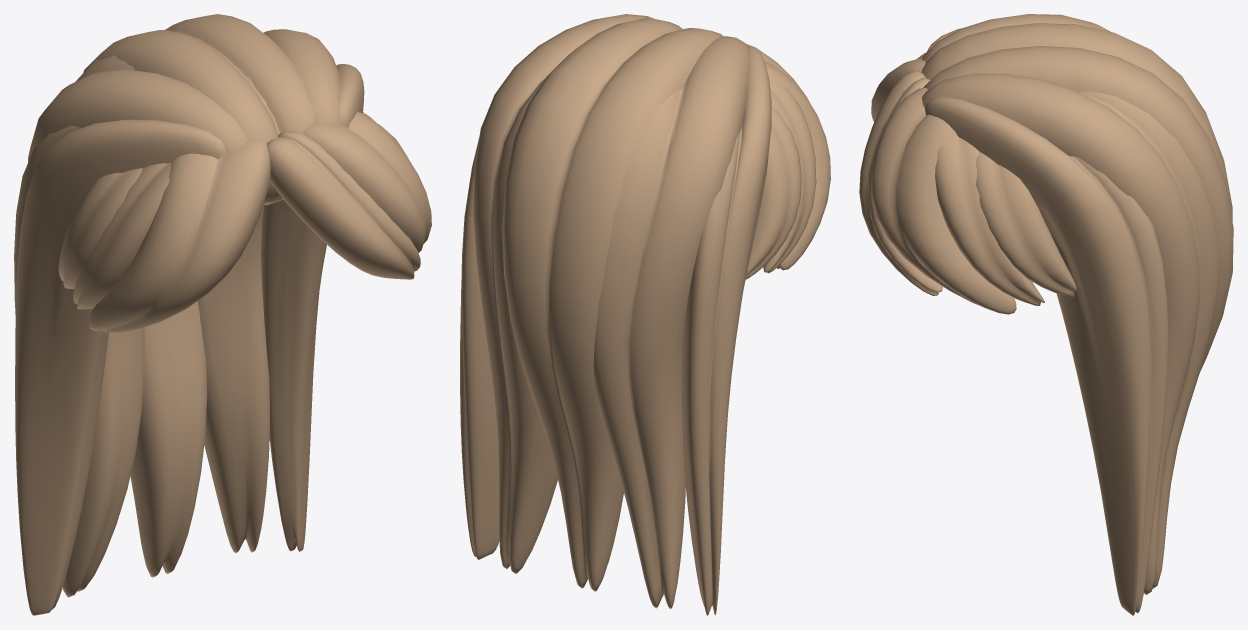
Rendered from hair-9-c27be6c2.glb.
3 renders of one model, left to right at view 1: azimuth 30°, elevation 25°; view 2: azimuth 150°, elevation 25°; view 3: azimuth 270°, elevation 25°, orthographic. The views are drawn at different scales.
Parts seen in each view (by area): view 1: Geo_White_Older_Female_Hair_9.001; view 2: Geo_White_Older_Female_Hair_9.001; view 3: Geo_White_Older_Female_Hair_9.001.
Part boxes in pixels (x1,y1,x2,y2): Geo_White_Older_Female_Hair_9.001: (14,14,431,615); Geo_White_Older_Female_Hair_9.001: (460,14,830,615); Geo_White_Older_Female_Hair_9.001: (859,14,1233,615).
Size of the model in its own units: 1.64 by 2.86 by 1.87.
